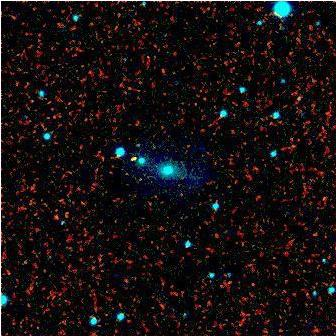star: (122, 140, 152, 170)
